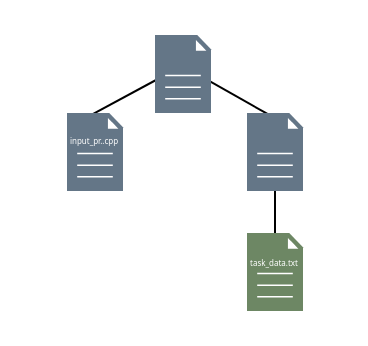
The diagram is 368 pixels wide and 346 high, and some of its shapes have lost their labels. Here are the shapes that lost their labels. From the top down, the centre of each, then its label:
At point 182,73: "main.cpp".
At point 274,151: "rw_data.cpp".
